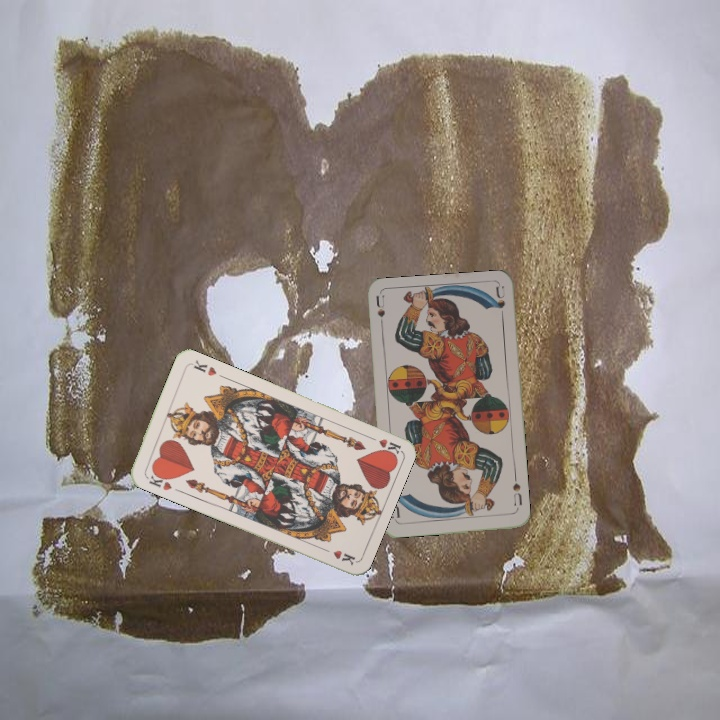HK: (363, 432, 403, 458), (142, 467, 174, 493)
SU: (372, 293, 387, 333), (509, 479, 525, 513)
